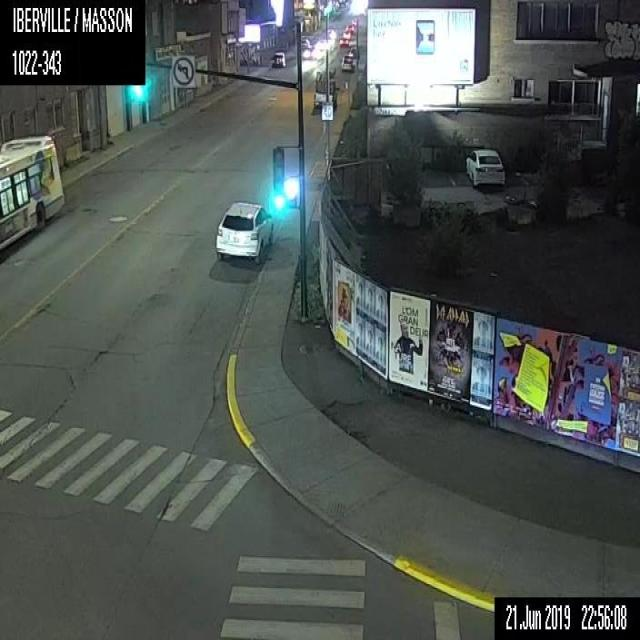bus: (0, 132, 65, 252)
vehicle: (213, 199, 276, 265), (465, 148, 505, 188), (312, 65, 339, 111), (270, 51, 286, 68), (302, 44, 318, 59), (341, 57, 353, 71), (343, 23, 355, 34), (348, 45, 358, 58), (338, 36, 348, 47), (300, 38, 310, 48), (342, 29, 352, 38)
